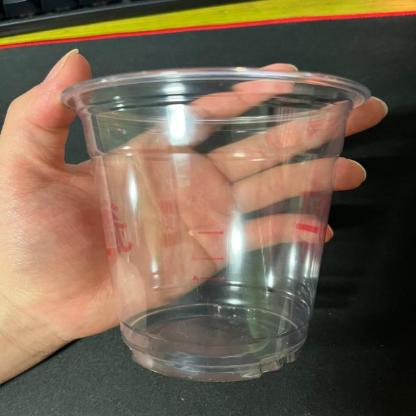Plastic Cup: (60, 62, 378, 386)
